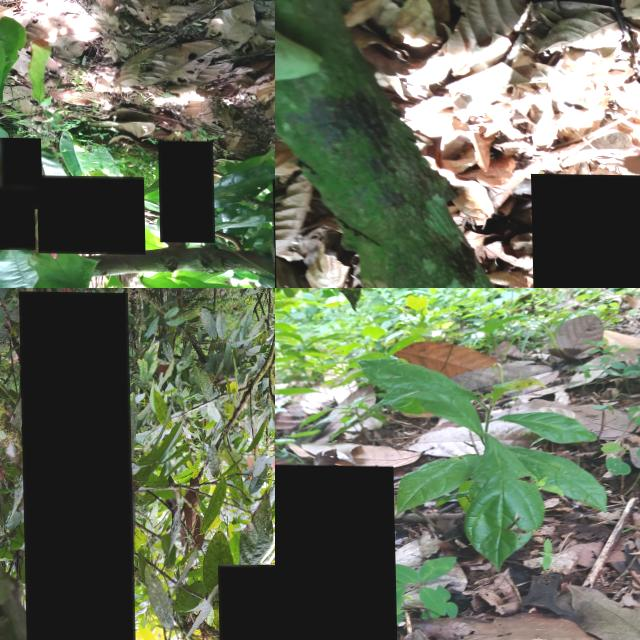Fitoftora: (18, 290, 134, 640), (530, 173, 640, 288), (0, 185, 33, 249)
Monilia: (275, 463, 397, 640)
Sana: (35, 175, 144, 253), (157, 140, 213, 242), (0, 136, 40, 208)
